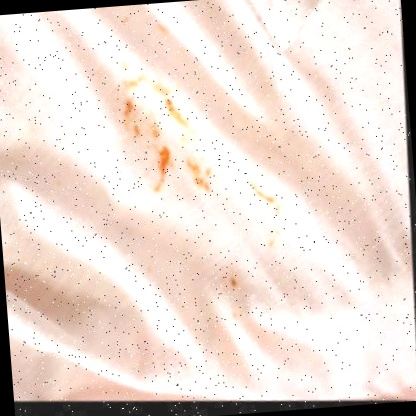kimchi: (260, 207, 289, 254), (148, 148, 175, 195), (183, 160, 215, 198), (241, 179, 282, 205), (122, 76, 170, 94), (116, 96, 139, 127), (171, 115, 200, 133), (151, 21, 170, 40), (127, 123, 144, 142), (165, 98, 184, 114), (226, 273, 243, 289), (115, 59, 131, 75), (150, 118, 162, 138), (115, 15, 131, 29), (226, 308, 240, 323), (31, 123, 41, 133)
